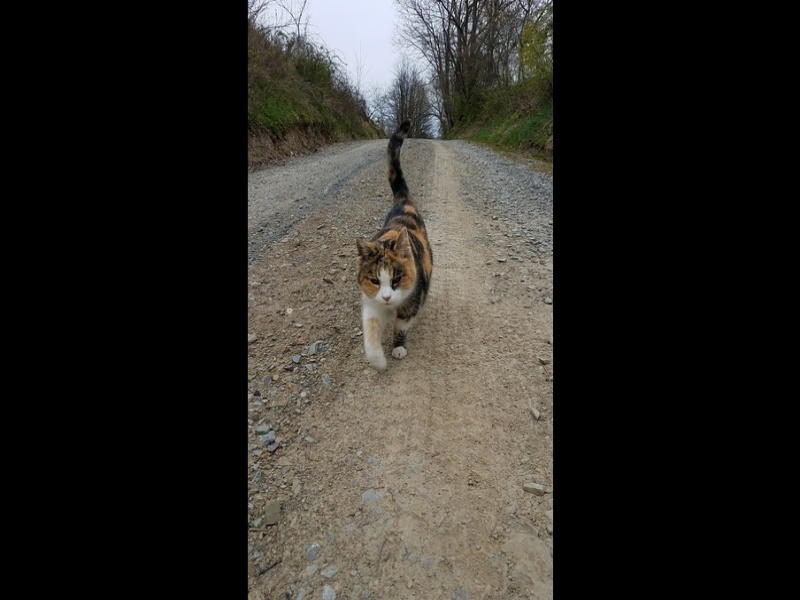cat: (350, 112, 437, 376)
